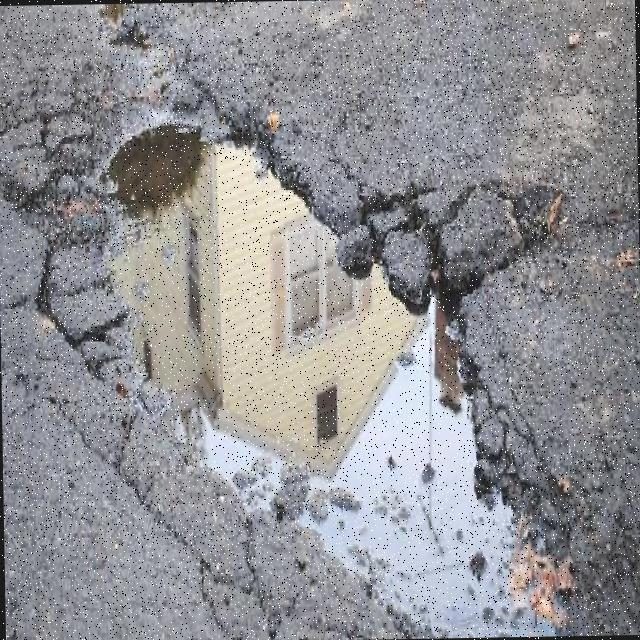Pothole: (0, 98, 640, 638)
